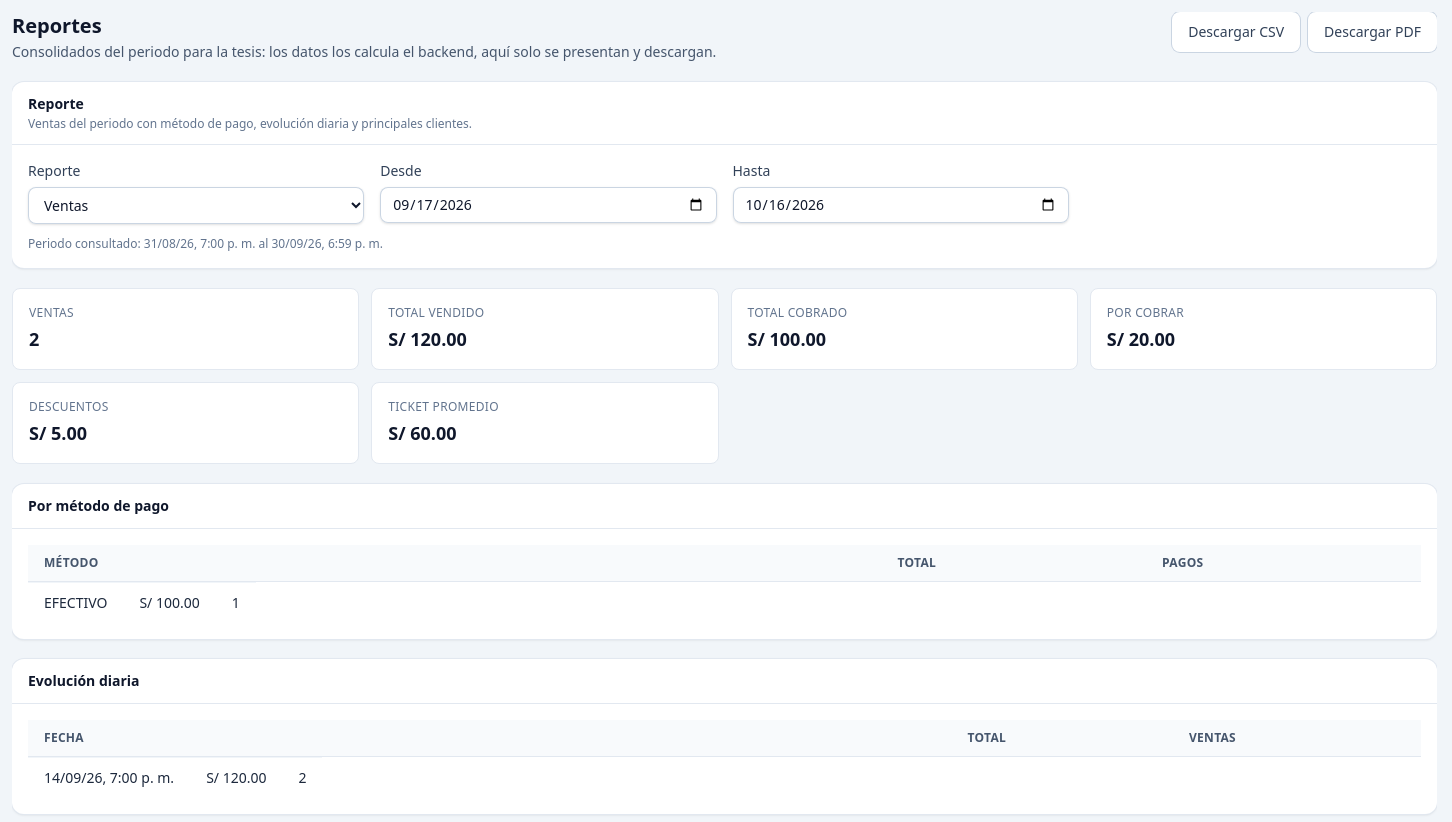
Test case: pantalla de reportes › descargar CSV pide el CSV, no el PDF
This screenshot has width=1452, height=822.
Click the button "Descargar CSV". click: (1236, 32)
box: [1172,12,1300,52]
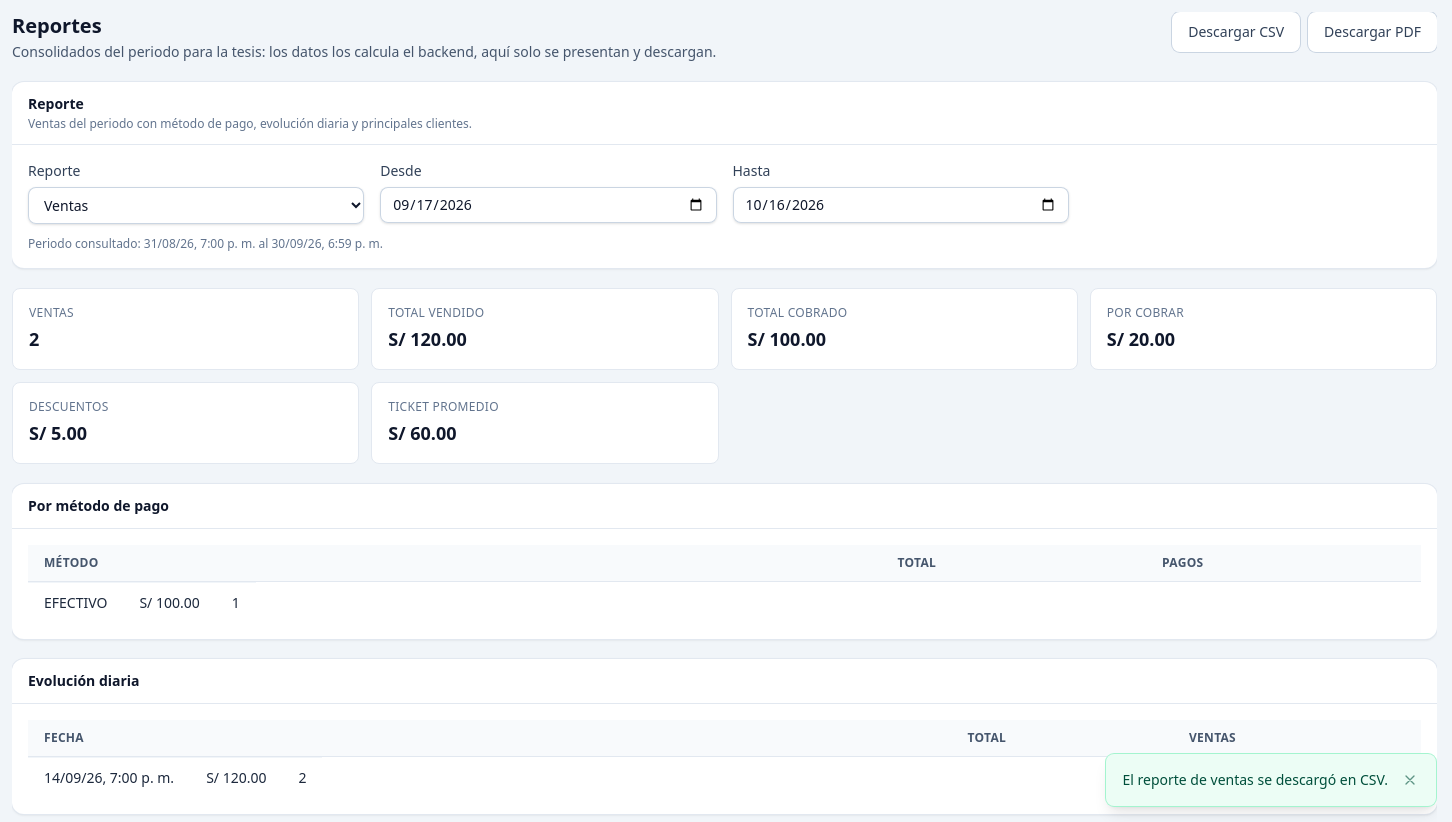
expect the text "El reporte de ventas se descargó en CSV." is shown: met, box [1122,770,1388,790]
